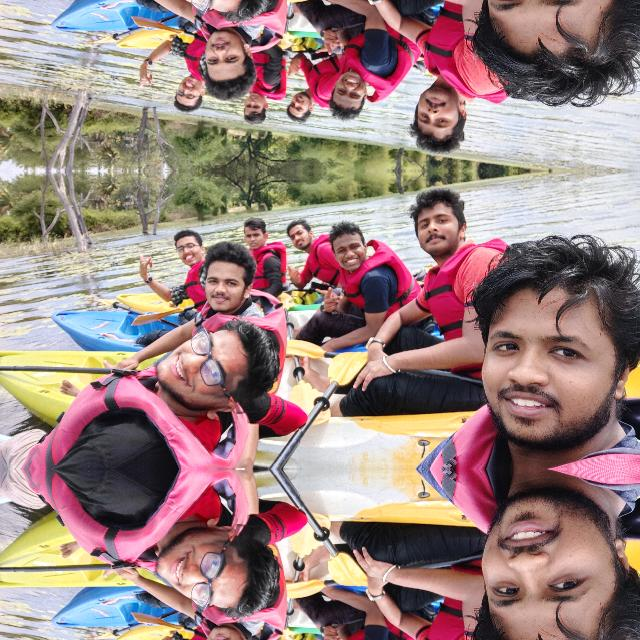person: (459, 237, 635, 468), (459, 468, 635, 640), (75, 316, 265, 468), (75, 468, 265, 620), (386, 180, 490, 408), (459, 0, 635, 103), (385, 0, 490, 159), (385, 528, 490, 640), (324, 217, 404, 356), (324, 0, 403, 123), (198, 242, 264, 328), (198, 12, 264, 98), (324, 580, 403, 640), (75, 0, 265, 24), (238, 204, 284, 292), (238, 48, 284, 136), (284, 212, 332, 294), (284, 46, 332, 128), (165, 21, 203, 120), (165, 220, 203, 318), (198, 607, 264, 640), (165, 617, 203, 640)
